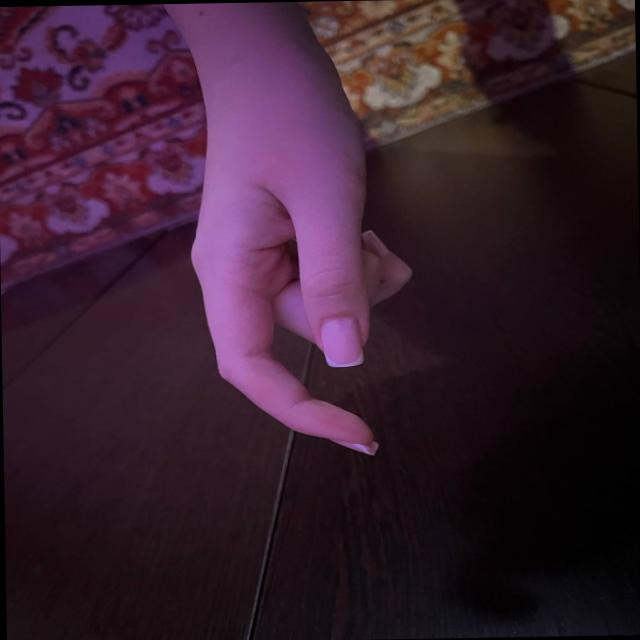kh: (124, 70, 436, 468)
